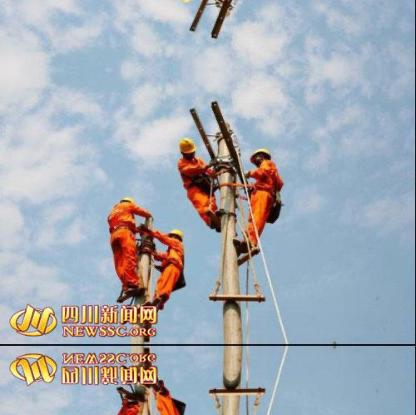Safety Helmet: (246, 143, 275, 170), (175, 134, 201, 162), (166, 225, 189, 247), (115, 193, 137, 209)
